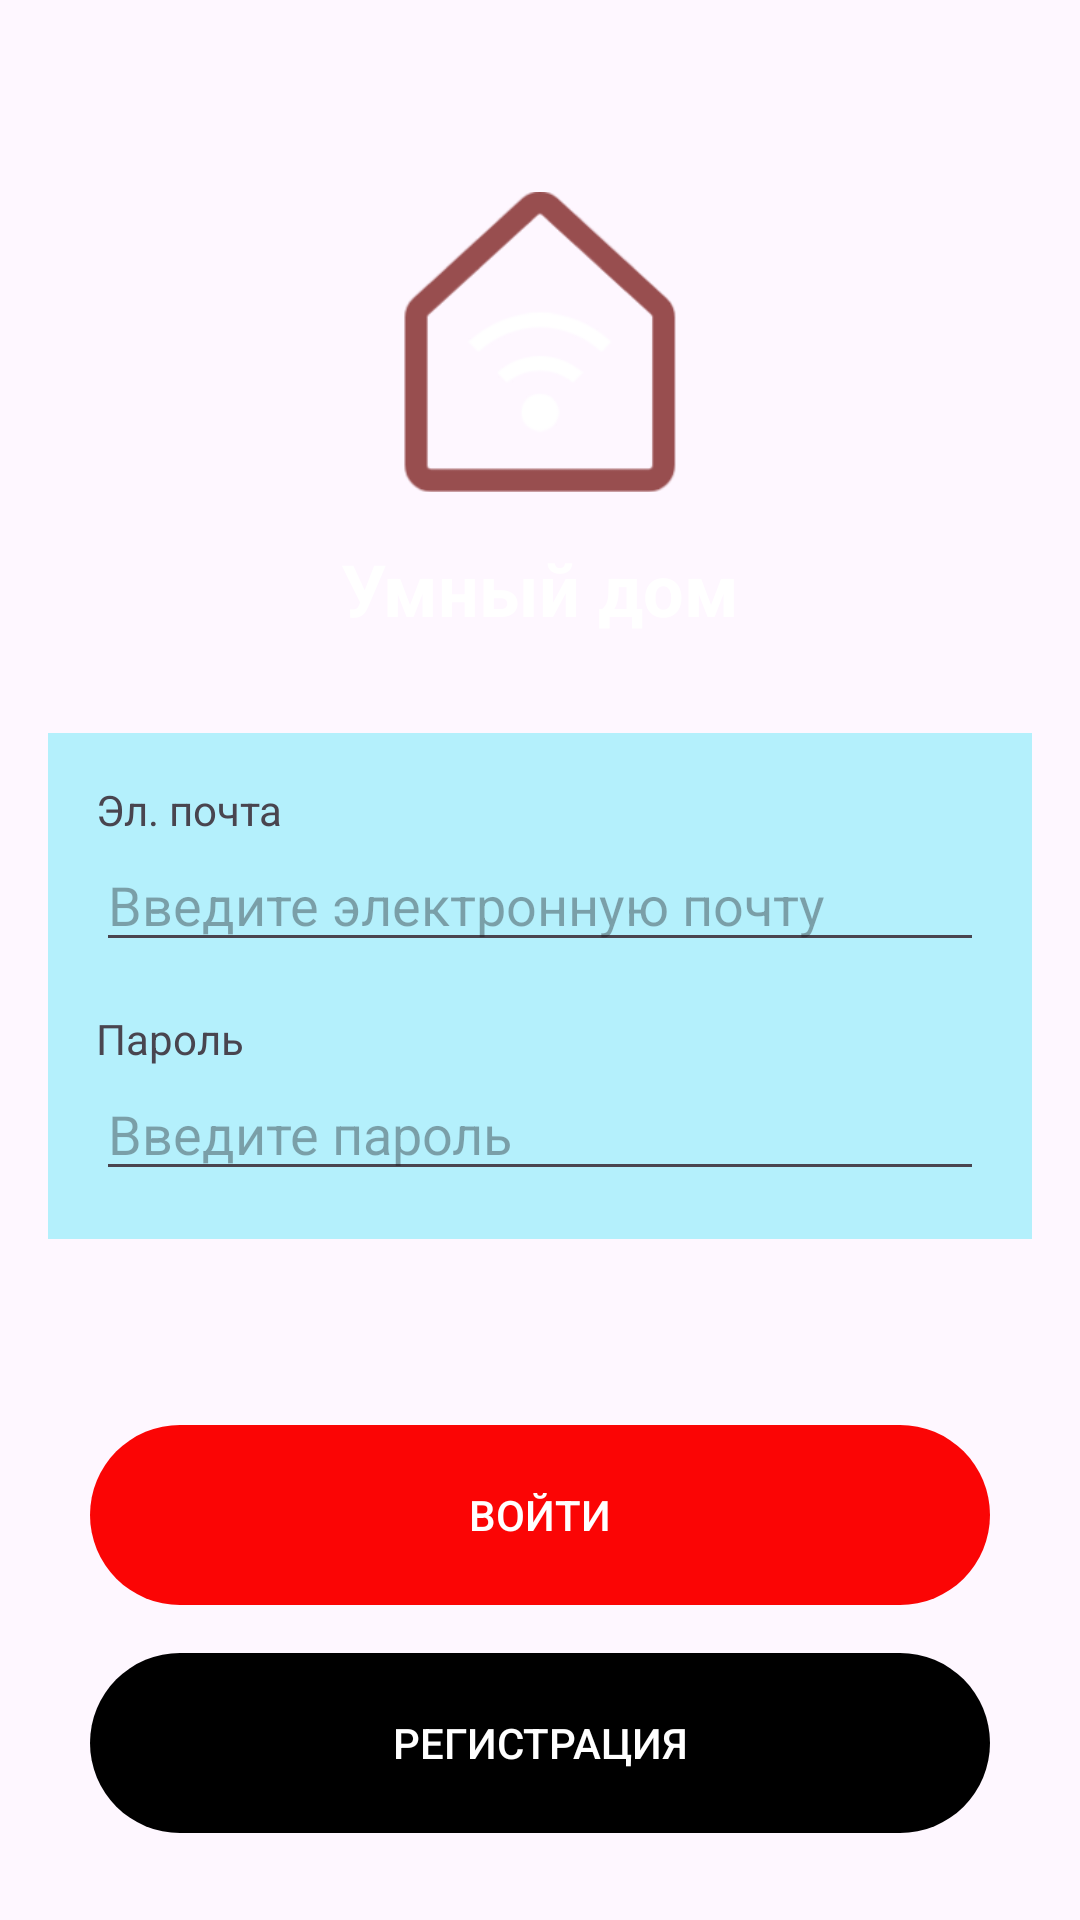

Screen size 1080*1920. Icon name, then its center in pixels as (x,y):
iconhouse: (540,342)
